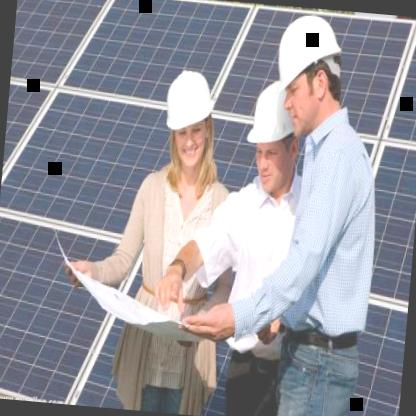helmet: (266, 6, 354, 142), (240, 75, 311, 212), (154, 55, 221, 182)
